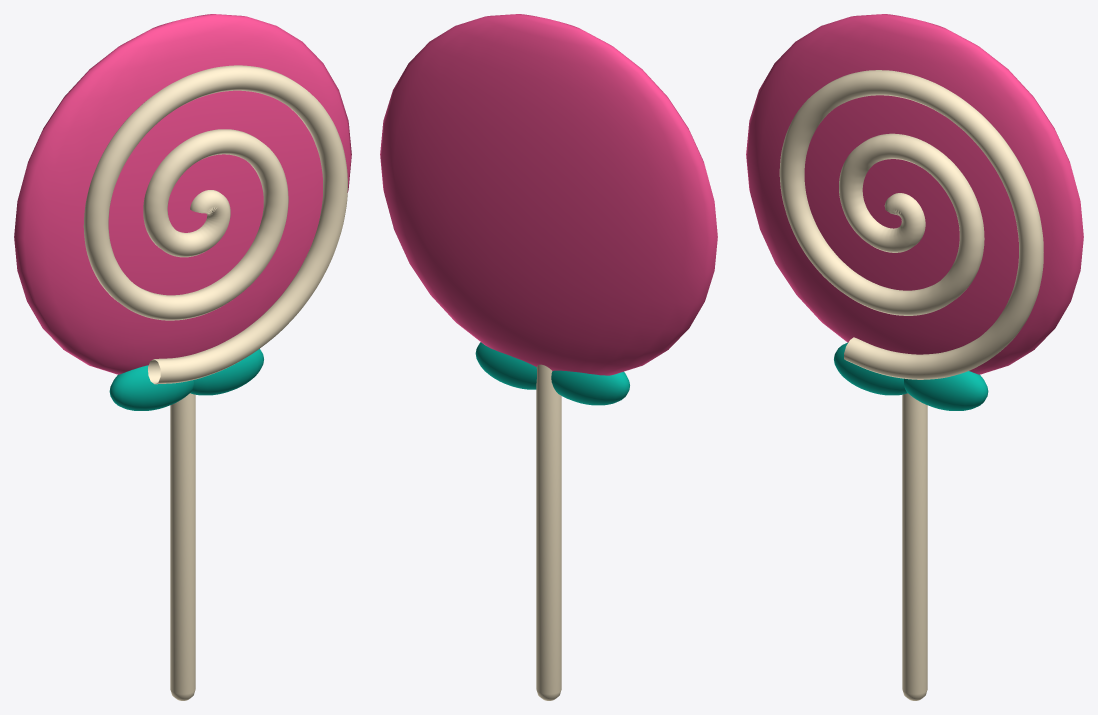
File: candy.glb
3 renders of one model, left to right at view 1: azimuth 30°, elevation 25°; view 2: azimuth 150°, elevation 25°; view 3: azimuth 330°, elevation 25°, orthographic.
Parts seen in each view (by area): view 1: Candy stick; view 2: Candy stick; view 3: Candy stick.
Part boxes in pixels (x1,y1,x2,y2): Candy stick: (14,14,351,700); Candy stick: (380,14,717,700); Candy stick: (746,14,1083,700).
Size of the model in its own units: 2 by 3.85 by 0.43.
